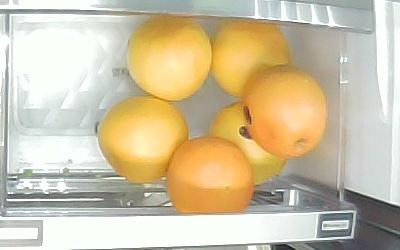grapefruit: (96, 96, 190, 184), (243, 66, 328, 159), (127, 14, 213, 102), (210, 99, 287, 186), (166, 137, 254, 211), (211, 19, 291, 98)
